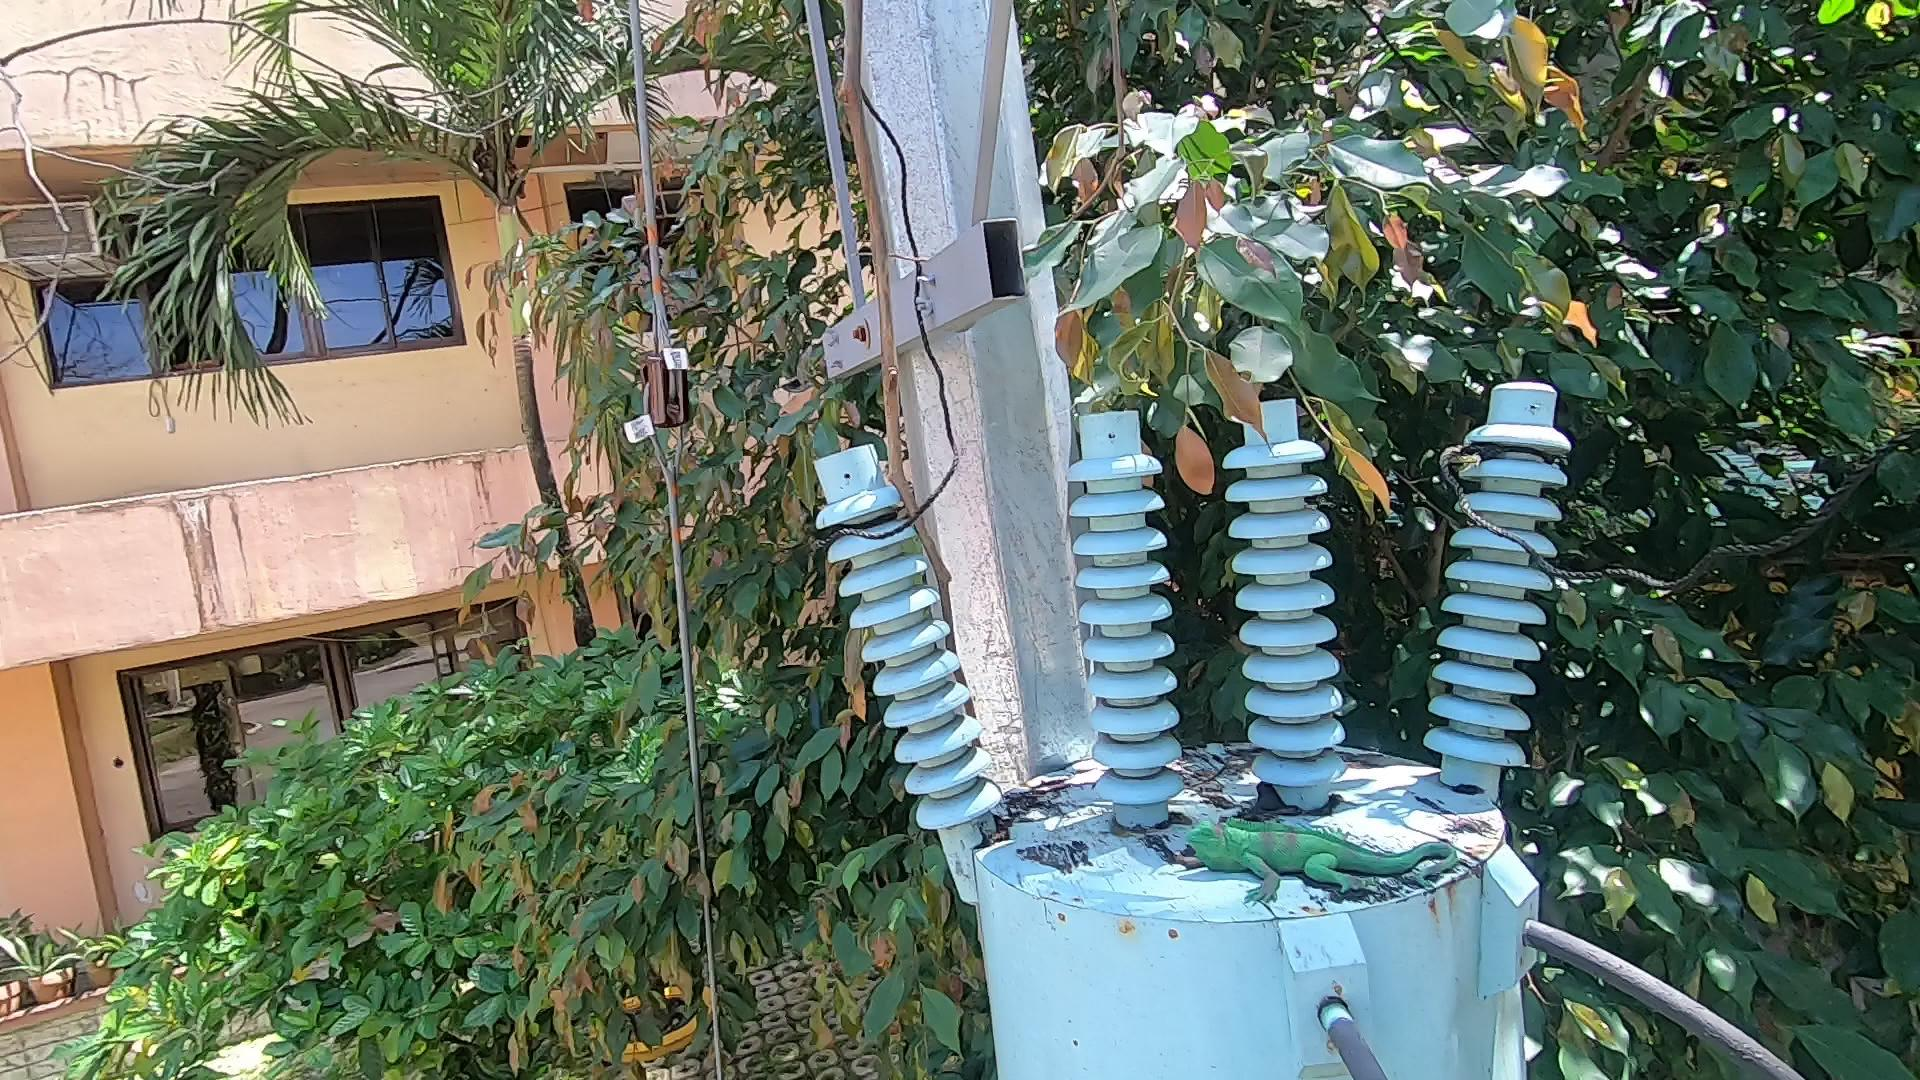branch with leaves: (1104, 276, 1408, 550)
leaf: (1240, 777, 1304, 837), (982, 810, 1035, 852)
tree branch: (808, 1, 986, 669)
